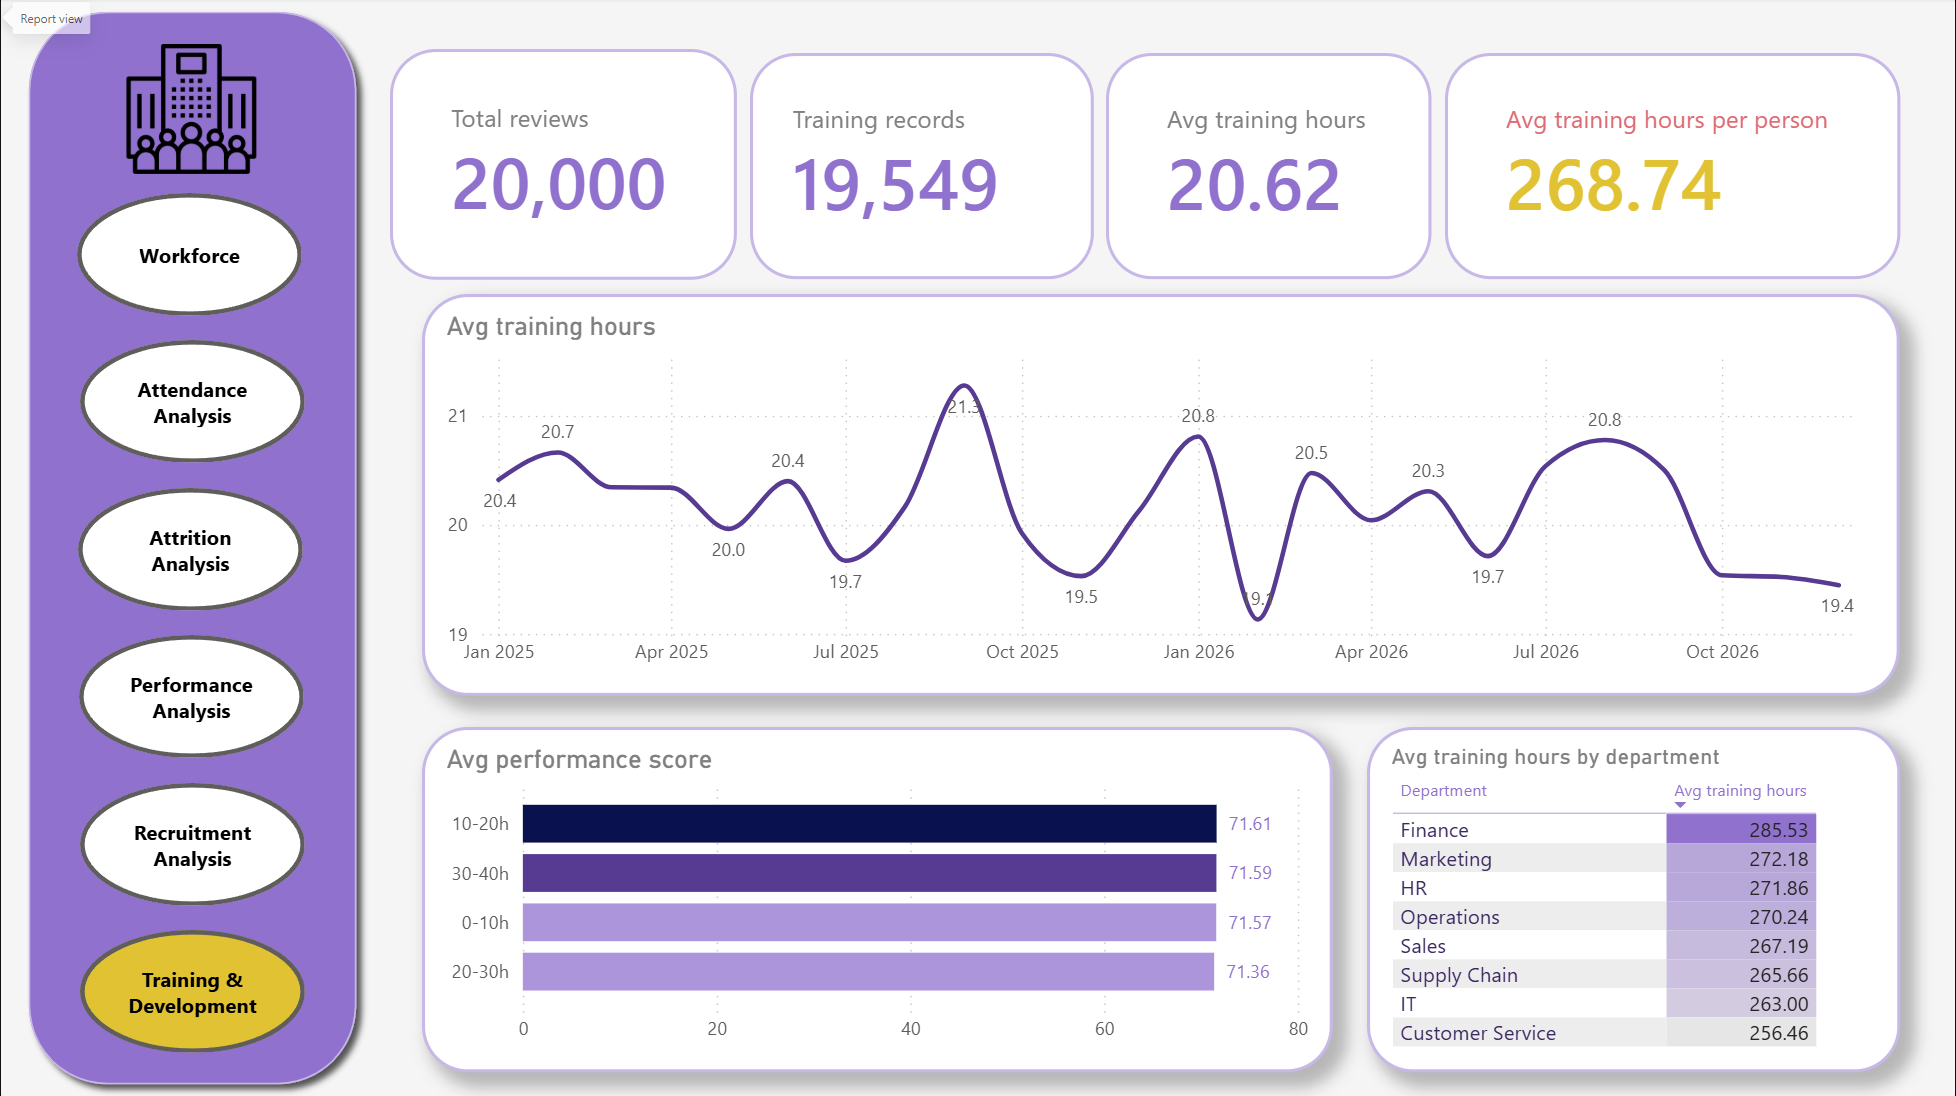

The dashboard page shown, as its layout file describes it:
{"tool":"powerbi","page":{"name":"Training & Development","canvas":[1280,720],"ordinal":5},"visuals":[{"type":"cardVisual","fields":{"Data":["ALL MEASURES.Avg_training_hours"]},"box":[945.6,36,297.8,147.9],"z":0},{"type":"shape","box":[9.8,0,232.3,719.8],"z":1000},{"type":"lineChart","title":"Avg training hours","fields":{"Category":["DateTable.Date.Variation.Date Hierarchy.Year","DateTable.Date.Variation.Date Hierarchy.Month","DateTable.Date.Variation.Date Hierarchy.Day"],"Y":["ALL MEASURES.Avg_training_hours_by_date"]},"box":[276.4,193.4,967.2,263.4],"z":2000},{"type":"actionButton","box":[52.1,224.1,147.2,80.5],"z":3000},{"type":"actionButton","box":[50.8,320.5,147.2,80.5],"z":4000},{"type":"tableEx","title":"Avg training hours by department","fields":{"Values":["Departments.Department Name","ALL MEASURES.Avg_training_hours"]},"box":[894.6,477.1,348.8,226.4],"z":5000},{"type":"clusteredBarChart","title":"Avg performance score","fields":{"Category":["Performance Review.Training_hours_bucket"],"Y":["ALL MEASURES.Average_performance_score"]},"box":[276.2,477.1,596.2,226.4],"z":6000},{"type":"actionButton","box":[51.4,417,147.2,80.5],"z":7000},{"type":"actionButton","box":[52.1,513.4,147.2,80.5],"z":8000},{"type":"cardVisual","fields":{"Data":["ALL MEASURES.Total_training_records"]},"box":[490.6,36,225.1,147.9],"z":9000},{"type":"actionButton","box":[52.4,609.9,147.2,80.5],"z":10000},{"type":"cardVisual","fields":{"Data":["ALL MEASURES.Avg_training_hours_per_session"]},"box":[724,36,213.3,147.9],"z":11000},{"type":"cardVisual","fields":{"Data":["ALL MEASURES.Total reviews"]},"box":[255.2,33.4,227.1,150.5],"z":12000},{"type":"actionButton","box":[50.1,127.6,147.2,80.5],"z":13000},{"type":"image","box":[13.7,29.9,222.7,85.3],"z":14000}]}

Visuals, with their boxes on the page's 1280x720 design canvas (x1, y1, x2, y2). These are canvas units, not pixel positions in the 1956x1096 screenshot, which may show the page scaled, cropped or inside an application window:
cardVisual - ALL MEASURES.Avg_training_hours: BBox(946, 36, 1243, 184)
shape: BBox(10, 0, 242, 720)
"Avg training hours" lineChart: BBox(276, 193, 1244, 457)
actionButton: BBox(52, 224, 199, 305)
actionButton: BBox(51, 320, 198, 401)
"Avg training hours by department" tableEx: BBox(895, 477, 1243, 704)
"Avg performance score" clusteredBarChart: BBox(276, 477, 872, 704)
actionButton: BBox(51, 417, 199, 498)
actionButton: BBox(52, 513, 199, 594)
cardVisual - ALL MEASURES.Total_training_records: BBox(491, 36, 716, 184)
actionButton: BBox(52, 610, 200, 690)
cardVisual - ALL MEASURES.Avg_training_hours_per_session: BBox(724, 36, 937, 184)
cardVisual - ALL MEASURES.Total reviews: BBox(255, 33, 482, 184)
actionButton: BBox(50, 128, 197, 208)
image: BBox(14, 30, 236, 115)
